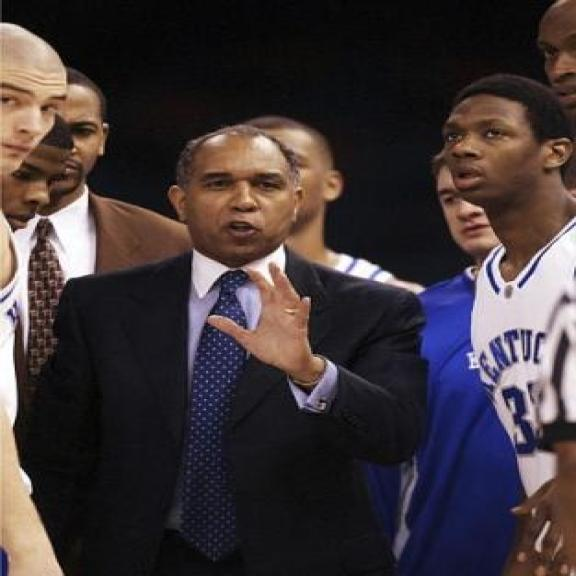face: (166, 145, 308, 261), (443, 100, 572, 205), (46, 80, 114, 198), (0, 56, 61, 174), (10, 122, 69, 242), (430, 158, 497, 261), (535, 10, 576, 114)
